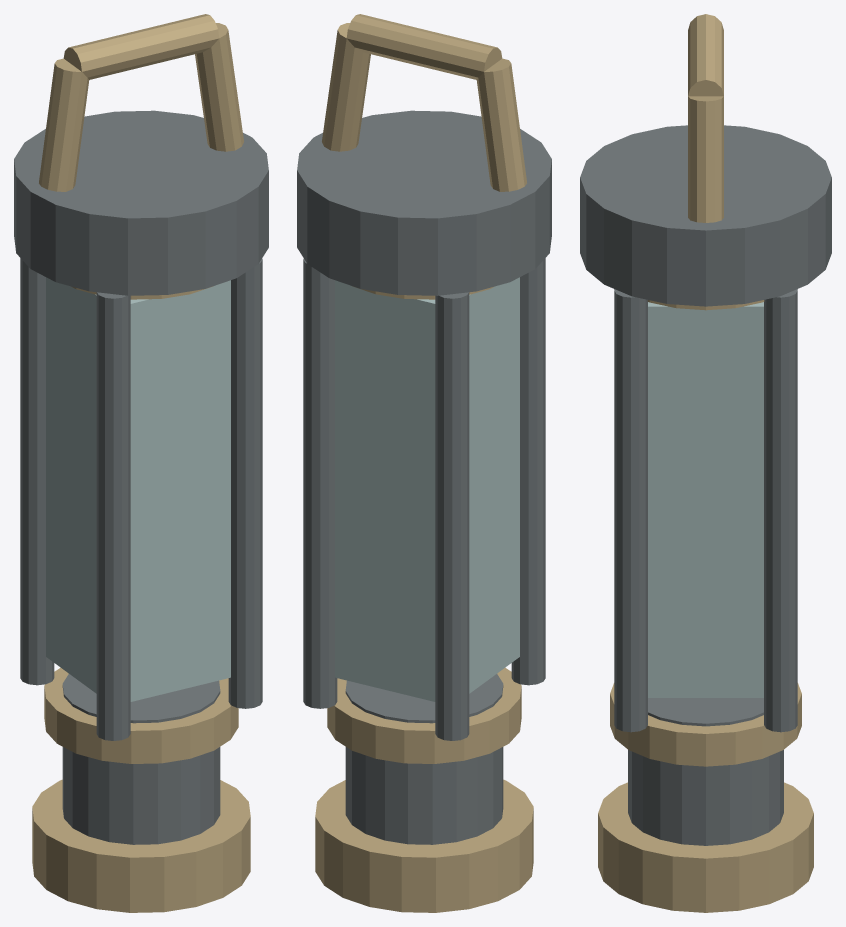
Rendered from oil-lantern.glb.
3 views of the same model, side by side, from view 1: azimuth 30°, elevation 25°; view 2: azimuth 150°, elevation 25°; view 3: azimuth 270°, elevation 25° (orthographic).
Parts seen in each view (by area): view 1: glass-lamp, upper-hat, foot, lower-base, upright-0.1250.125, upright0.1250.125, upright-0.125-0.125, ring-0.29, handle-top, handle-left, handle-right; view 2: glass-lamp, upper-hat, foot, lower-base, upright-0.125-0.125, upright0.125-0.125, upright-0.1250.125, ring-0.29, handle-top, handle-left, handle-right; view 3: glass-lamp, upper-hat, foot, lower-base, upright0.125-0.125, upright0.1250.125, ring-0.29, handle-right, handle-top.
Boxes of the visible parts, x1,y1,x2,y2 form: glass-lamp: [46, 277, 230, 701]; upper-hat: [14, 110, 268, 295]; foot: [32, 779, 250, 912]; lower-base: [62, 674, 220, 844]; upright-0.1250.125: [96, 292, 130, 740]; upright0.1250.125: [228, 258, 262, 708]; upright-0.125-0.125: [20, 258, 54, 685]; ring-0.29: [44, 667, 238, 763]; handle-top: [63, 14, 219, 79]; handle-left: [39, 58, 89, 191]; handle-right: [195, 23, 243, 151]; glass-lamp: [335, 277, 519, 701]; upper-hat: [297, 110, 551, 295]; foot: [315, 779, 533, 912]; lower-base: [345, 674, 503, 844]; upright-0.125-0.125: [435, 292, 469, 740]; upright0.125-0.125: [303, 258, 337, 708]; upright-0.1250.125: [511, 258, 545, 685]; ring-0.29: [327, 667, 521, 763]; handle-top: [346, 14, 502, 79]; handle-left: [476, 58, 526, 191]; handle-right: [322, 23, 370, 151]; glass-lamp: [648, 302, 763, 697]; upper-hat: [580, 125, 831, 306]; foot: [598, 782, 813, 912]; lower-base: [628, 698, 783, 845]; upright0.125-0.125: [764, 289, 797, 732]; upright0.1250.125: [614, 289, 647, 732]; ring-0.29: [610, 683, 801, 766]; handle-right: [688, 96, 723, 222]; handle-top: [688, 14, 723, 96].
Size of the model in its own units: 0.42 by 1.51 by 0.42.
